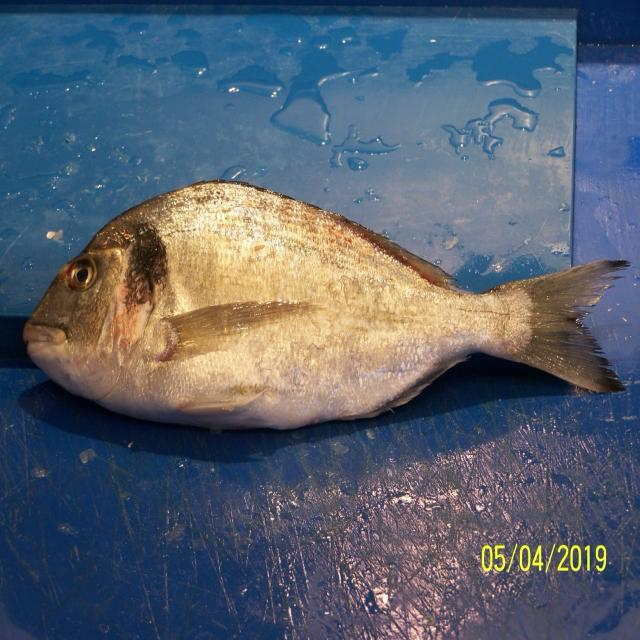Gilt-Head-Bream-c-ipura-: (21, 180, 627, 435)
